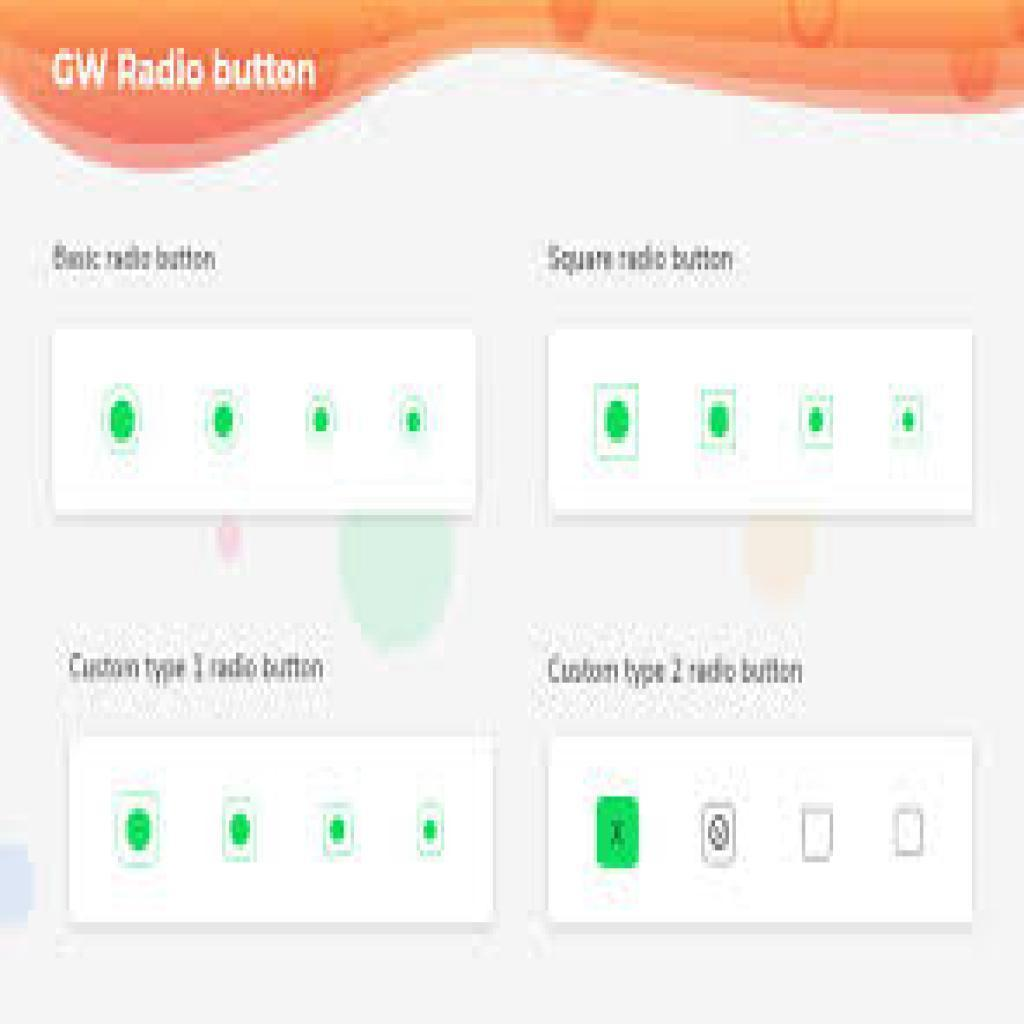checkbox: (595, 381, 642, 462), (594, 799, 647, 869), (695, 803, 743, 867), (795, 390, 839, 452), (699, 387, 742, 450), (890, 396, 933, 454), (894, 806, 929, 862), (802, 808, 834, 864)
radio: (116, 794, 165, 869), (100, 383, 148, 458), (202, 388, 251, 454), (302, 390, 340, 456), (222, 793, 258, 859), (322, 793, 352, 859), (400, 398, 432, 448), (418, 808, 447, 857)
